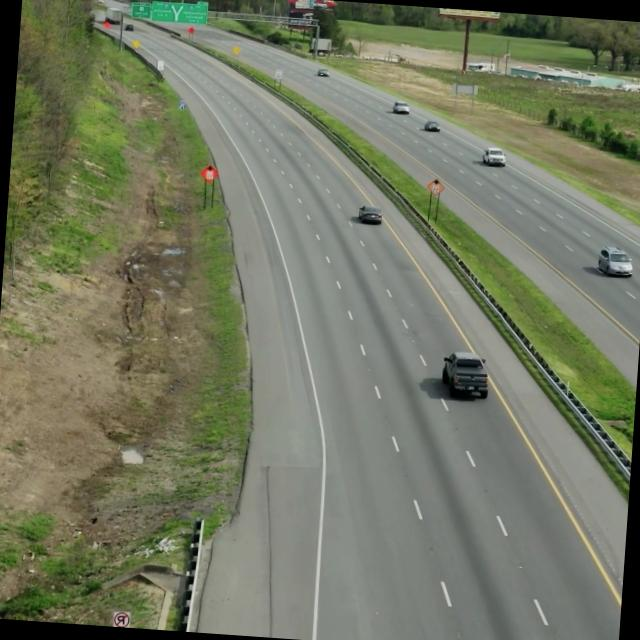Vehicle: (435, 348, 490, 401), (595, 246, 631, 278), (356, 201, 384, 229), (480, 143, 508, 170), (421, 117, 444, 135)
